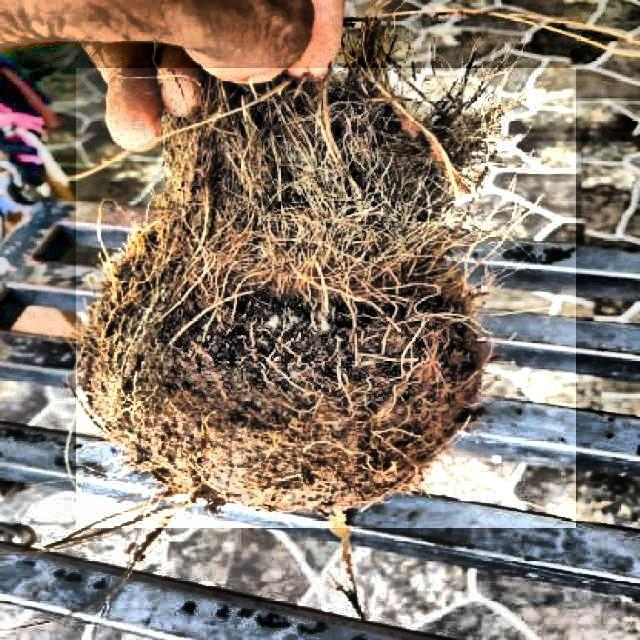cracked-coconut: (83, 41, 494, 521)
